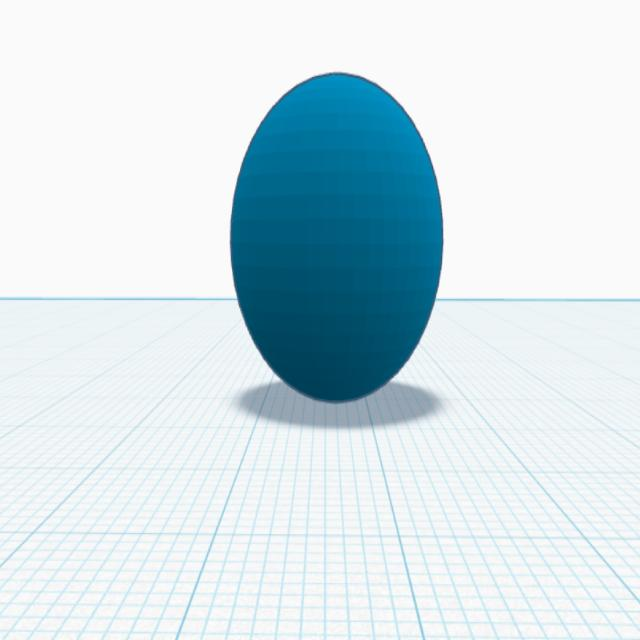sphere: (226, 67, 447, 407)
